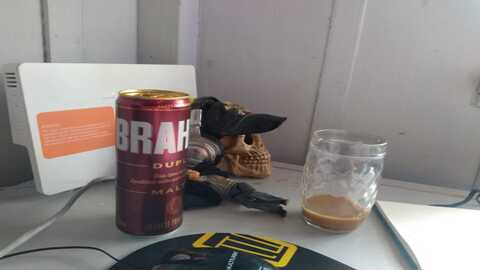duplo_malte: (112, 92, 190, 235)
